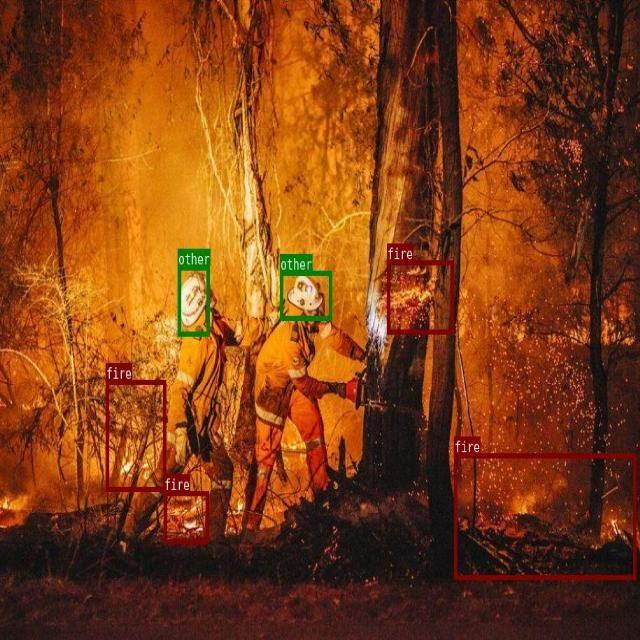fire: (454, 453, 636, 578), (105, 379, 165, 490), (387, 260, 453, 334), (163, 490, 208, 544)
